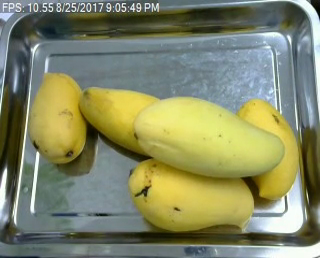Mango: (131, 94, 285, 182), (124, 154, 255, 231), (233, 93, 301, 202), (77, 83, 170, 157), (25, 70, 85, 165)
